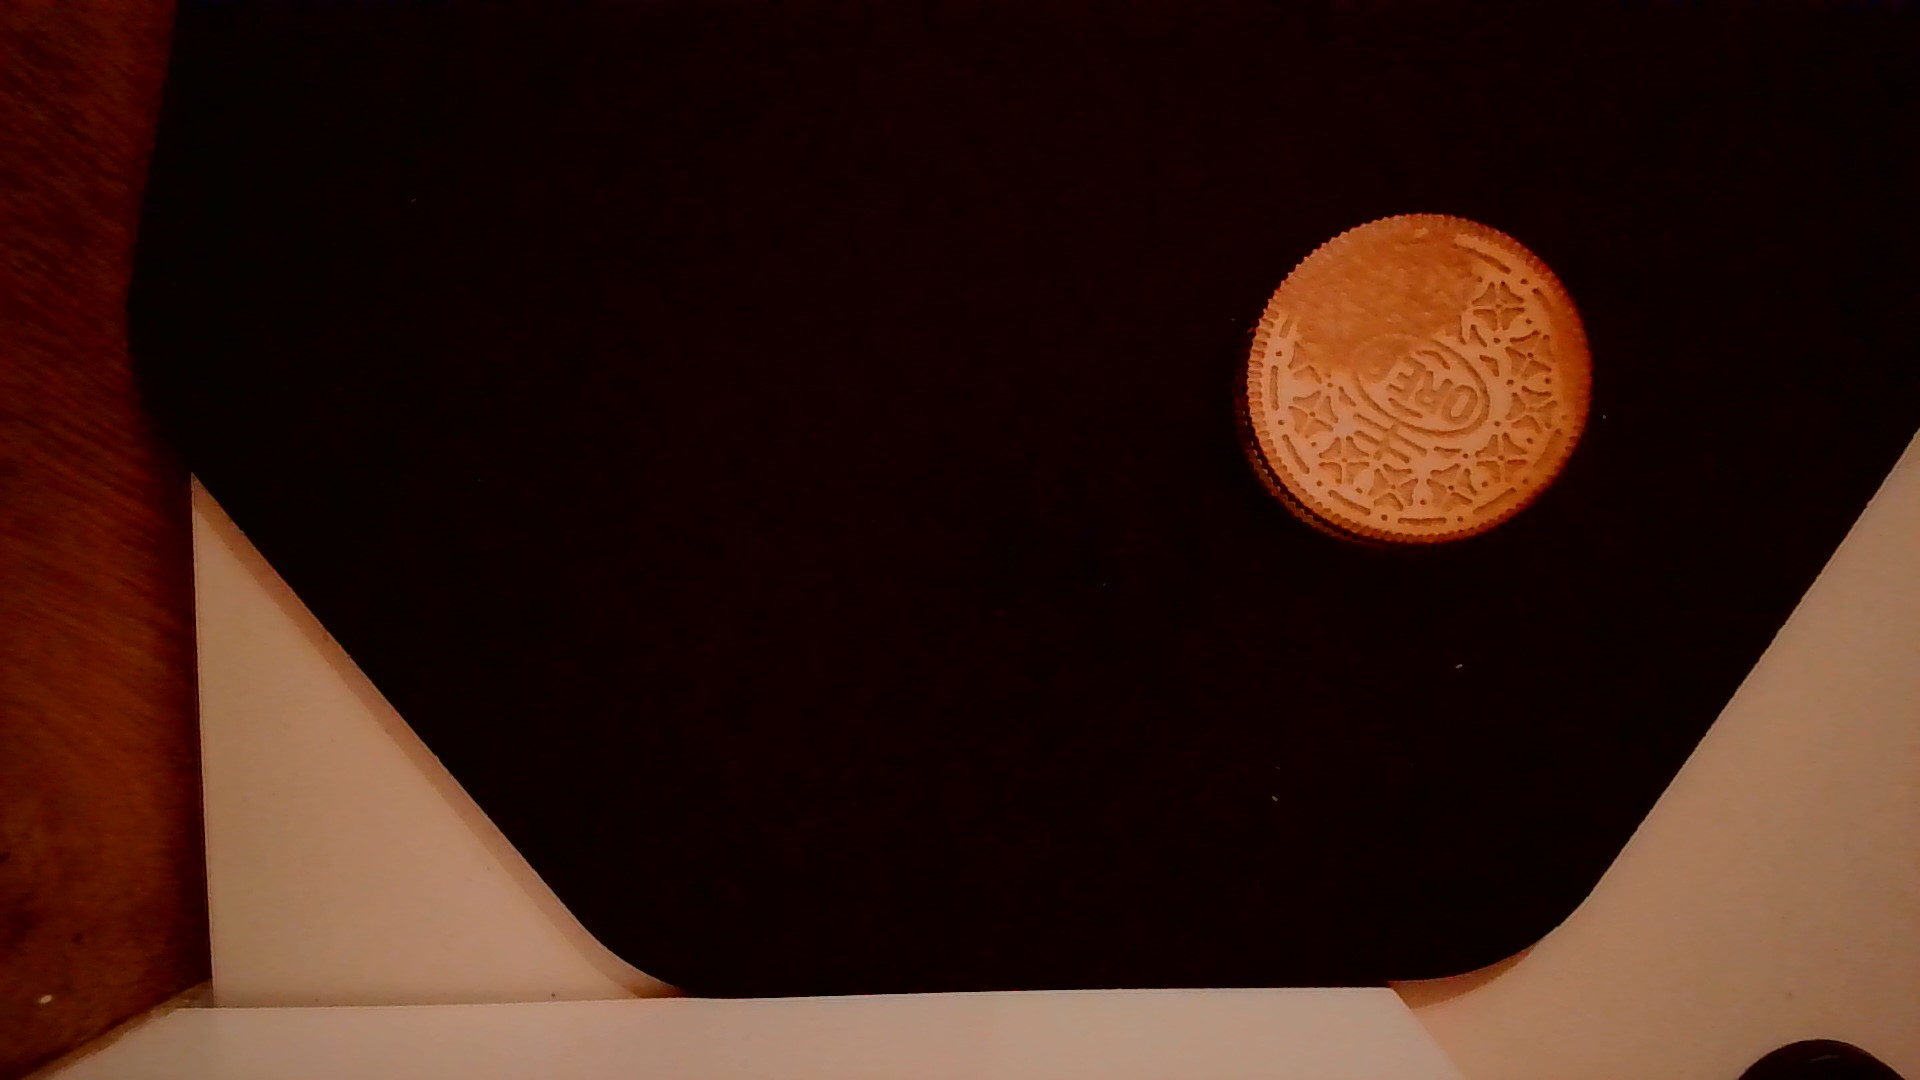Effacé: (1271, 204, 1464, 371), (1549, 298, 1590, 436)
Oréo: (1230, 204, 1597, 556)
